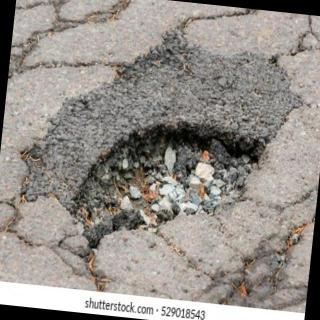pothole: (70, 124, 268, 260)
